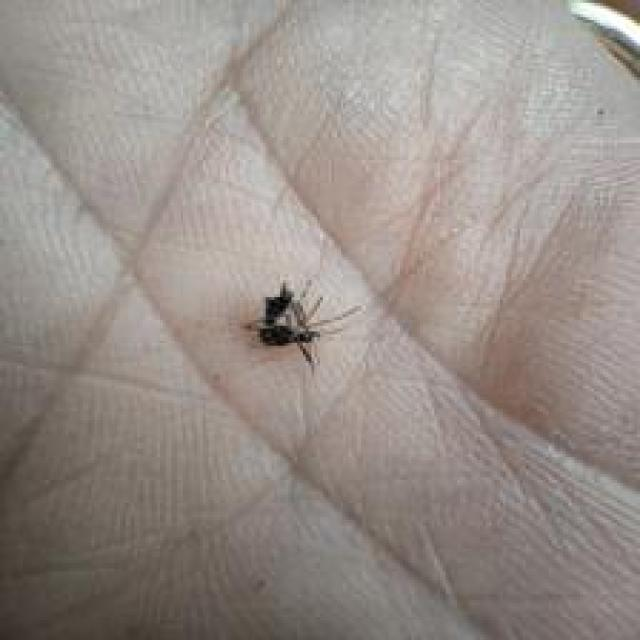Aedes albopictus: (243, 277, 363, 372)
